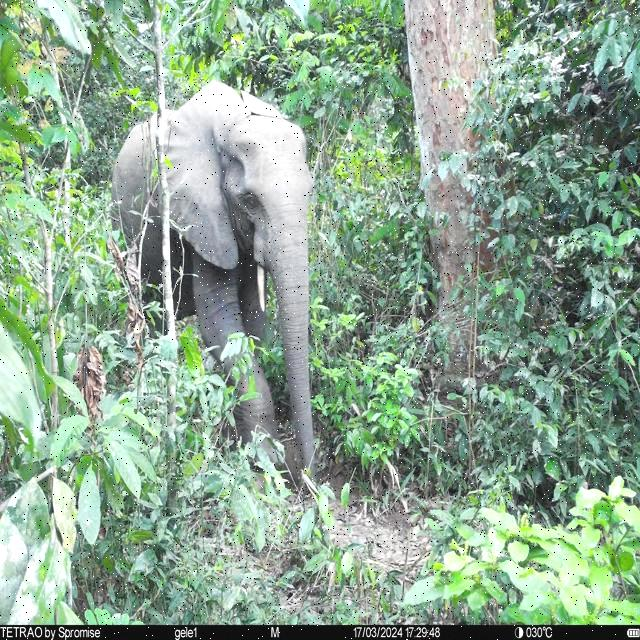ear: (162, 79, 252, 272)
elephant: (112, 79, 317, 488)
tusk: (255, 262, 266, 312)
